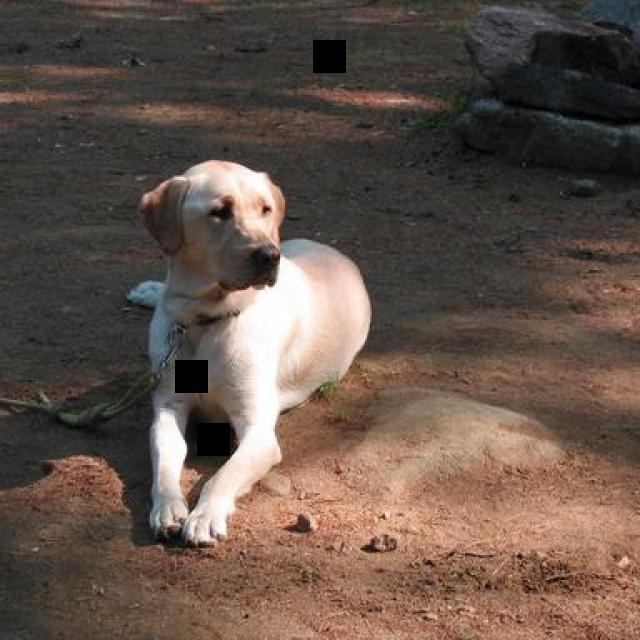adult_dog: (125, 158, 372, 548)
